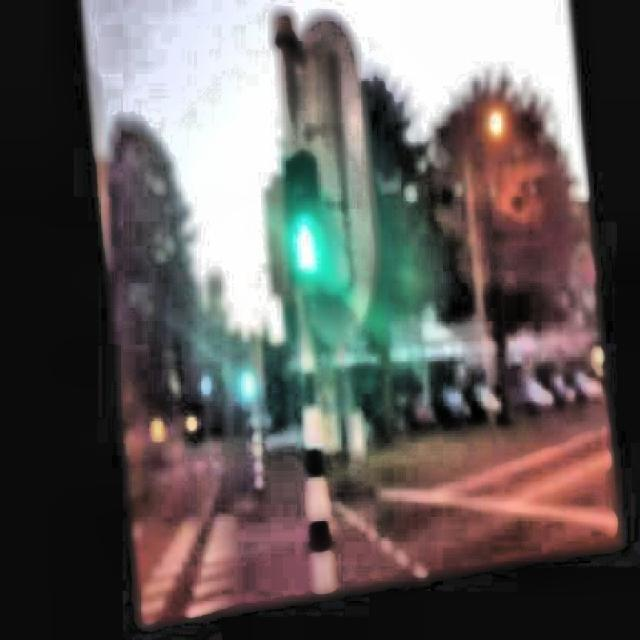semaforo pedestre: (210, 109, 388, 358)
